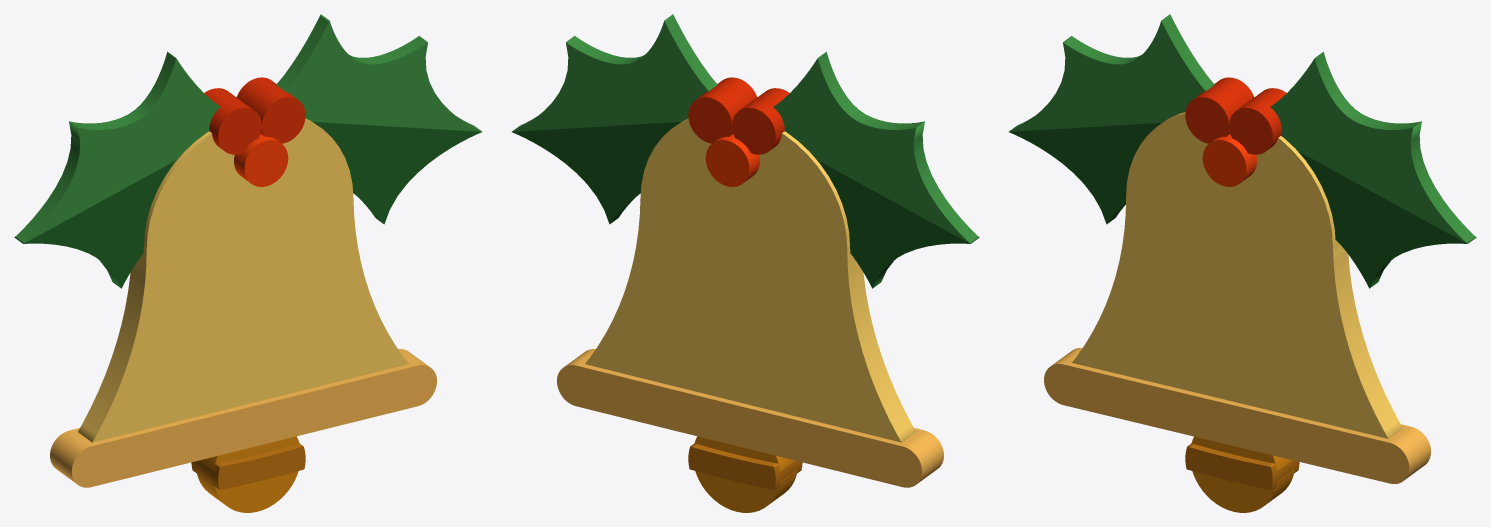
Rendered from bell.glb.
The picture shows the model from 3 angles, left to right: view 1: azimuth 30°, elevation 25°; view 2: azimuth 150°, elevation 25°; view 3: azimuth 330°, elevation 25°; orthographic projection.
Parts seen in each view (by area): view 1: Curve.014, Curve.015, Curve.001, Curve, Curve.002, Curve.003, Curve.004, Curve.005, Curve.011, Curve.010, Curve.012; view 2: Curve.014, Curve.015, Curve.001, Curve, Curve.002, Curve.003, Curve.004, Curve.005, Curve.011, Curve.010, Curve.012; view 3: Curve.014, Curve.015, Curve, Curve.001, Curve.002, Curve.003, Curve.004, Curve.005, Curve.010, Curve.011, Curve.012.
Part boxes in pixels (x1=…): Curve.014: x1=78, y1=118, x2=408, y2=442; Curve.015: x1=50, y1=349, x2=436, y2=487; Curve.001: x1=14, y1=51, x2=220, y2=243; Curve: x1=276, y1=14, x2=481, y2=131; Curve.002: x1=313, y1=122, x2=481, y2=224; Curve.003: x1=24, y1=160, x2=176, y2=288; Curve.004: x1=196, y1=436, x2=299, y2=512; Curve.005: x1=191, y1=443, x2=305, y2=489; Curve.011: x1=236, y1=77, x2=305, y2=143; Curve.010: x1=204, y1=88, x2=261, y2=154; Curve.012: x1=234, y1=134, x2=288, y2=186; Curve.014: x1=585, y1=118, x2=915, y2=442; Curve.015: x1=557, y1=349, x2=943, y2=487; Curve.001: x1=773, y1=51, x2=979, y2=243; Curve: x1=512, y1=14, x2=717, y2=131; Curve.002: x1=512, y1=122, x2=680, y2=224; Curve.003: x1=817, y1=160, x2=969, y2=288; Curve.004: x1=694, y1=436, x2=797, y2=512; Curve.005: x1=688, y1=443, x2=802, y2=489; Curve.011: x1=688, y1=77, x2=757, y2=143; Curve.010: x1=732, y1=88, x2=789, y2=154; Curve.012: x1=705, y1=134, x2=759, y2=186; Curve.014: x1=1072, y1=112, x2=1402, y2=438; Curve.015: x1=1044, y1=348, x2=1430, y2=483; Curve: x1=1270, y1=51, x2=1476, y2=243; Curve.001: x1=1009, y1=14, x2=1214, y2=131; Curve.002: x1=1298, y1=151, x2=1466, y2=288; Curve.003: x1=1009, y1=122, x2=1162, y2=224; Curve.004: x1=1191, y1=436, x2=1294, y2=512; Curve.005: x1=1185, y1=443, x2=1299, y2=489; Curve.010: x1=1185, y1=77, x2=1254, y2=143; Curve.011: x1=1229, y1=88, x2=1286, y2=154; Curve.012: x1=1202, y1=134, x2=1256, y2=186.
Size of the model in its own units: 1.89 by 1.85 by 0.2558.
